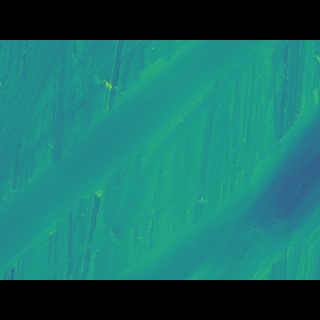Loch: (0, 70, 278, 245), (114, 101, 320, 250)
